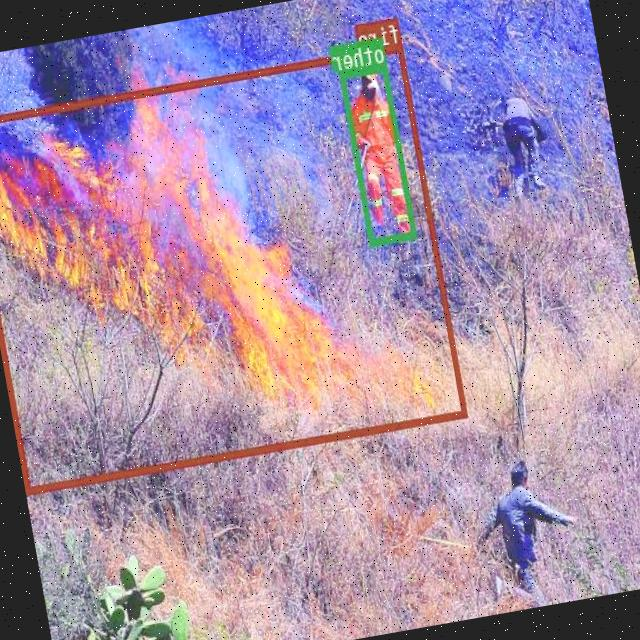fire: (0, 41, 467, 491)
